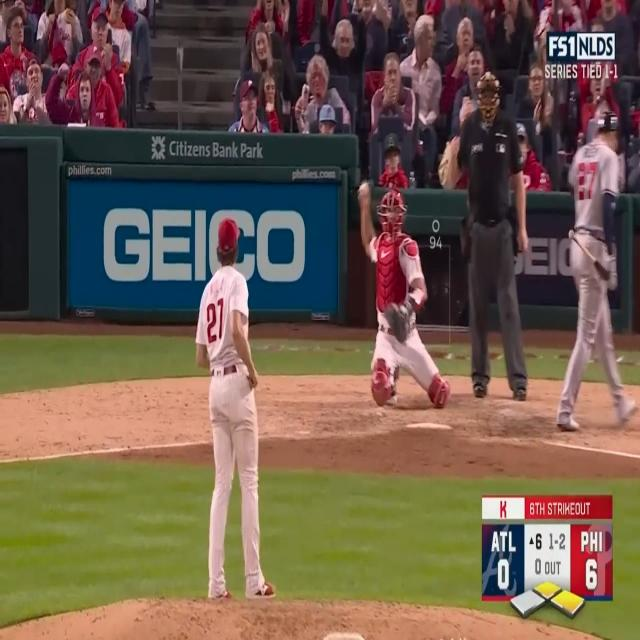baseball: (358, 180, 371, 201)
